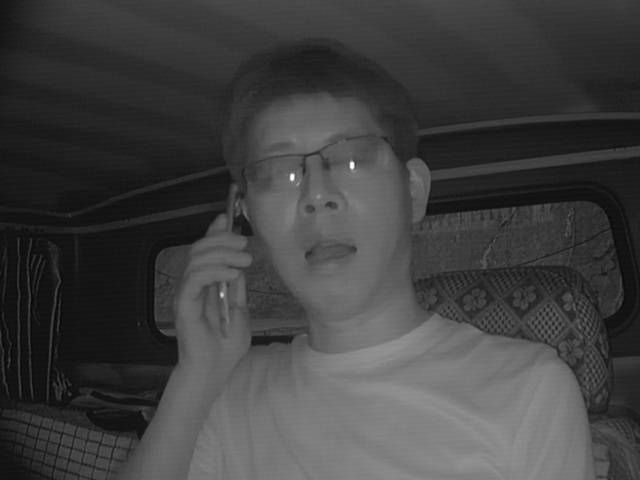hand: (169, 215, 259, 364)
